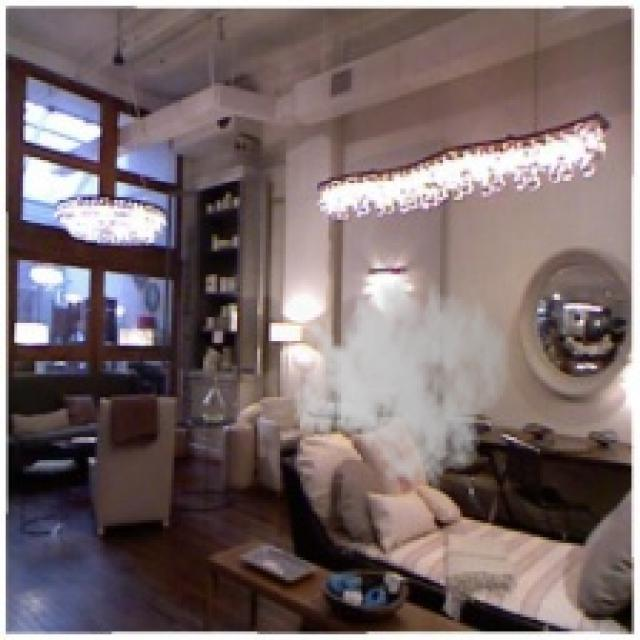Smoke: (292, 254, 512, 492)
